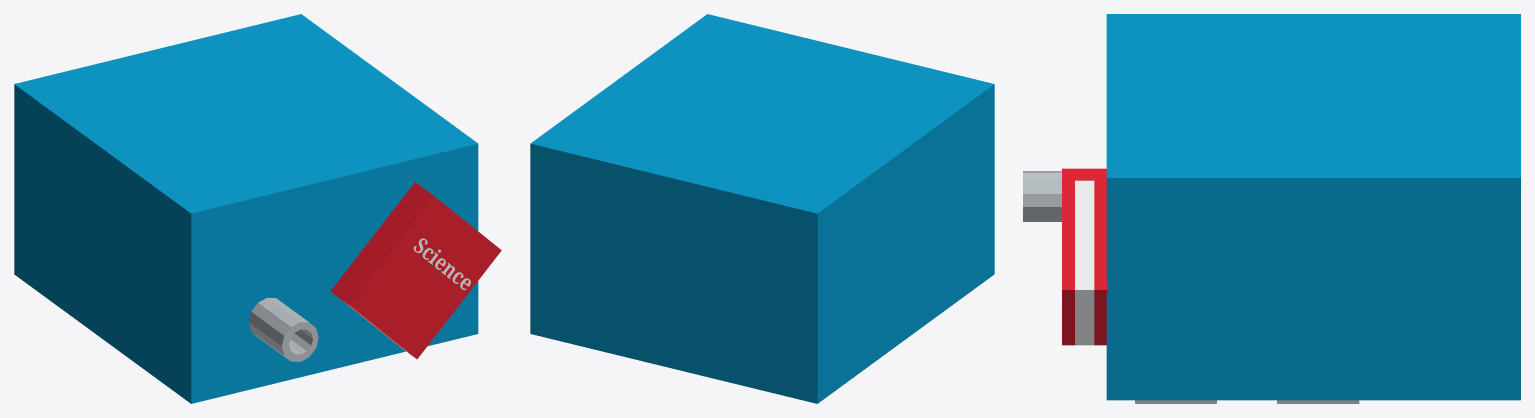
File: tinker.obj
3 renders of one model, left to right at view 1: azimuth 30°, elevation 25°; view 2: azimuth 150°, elevation 25°; view 3: azimuth 270°, elevation 25°, orthographic. The views are drawn at different scales.
Visible parts, largest first — view 1: group_0_40919, group_0_15277357, group_0_12568524, group_0_16448250; view 2: group_0_40919; view 3: group_0_40919, group_0_15277357, group_0_16448250, group_0_12568524.
Part boxes in pixels (x1=…): group_0_40919: x1=14, y1=14, x2=478, y2=403; group_0_15277357: x1=330, y1=182, x2=501, y2=359; group_0_12568524: x1=248, y1=297, x2=318, y2=361; group_0_16448250: x1=345, y1=238, x2=470, y2=353; group_0_40919: x1=530, y1=14, x2=994, y2=403; group_0_40919: x1=1106, y1=14, x2=1520, y2=400; group_0_15277357: x1=1062, y1=168, x2=1107, y2=345; group_0_16448250: x1=1075, y1=180, x2=1094, y2=345; group_0_12568524: x1=1023, y1=171, x2=1359, y2=403.
Bounding box in the file's own units: 60.91 × 42 × 77.
